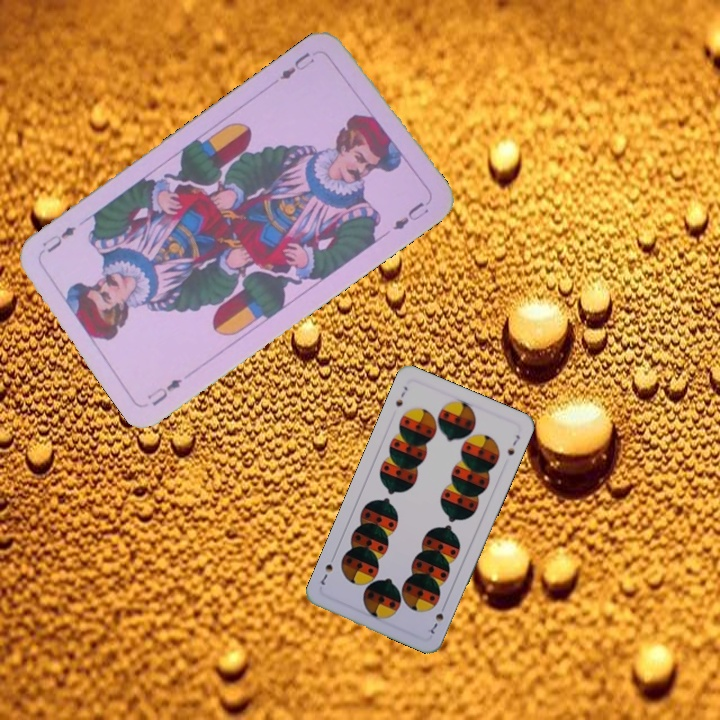EU: (275, 48, 318, 83), (143, 374, 185, 409)
S7: (426, 600, 449, 636), (391, 382, 410, 409)
